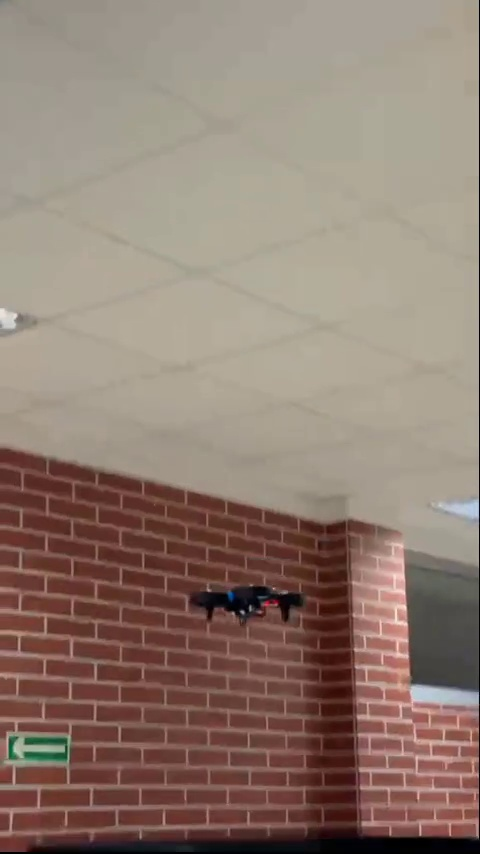drone: (187, 583, 308, 631)
